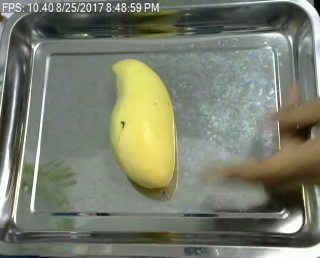Mango: (104, 53, 182, 191)
